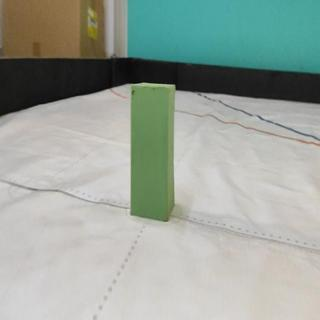greenbox: (130, 82, 175, 222)
